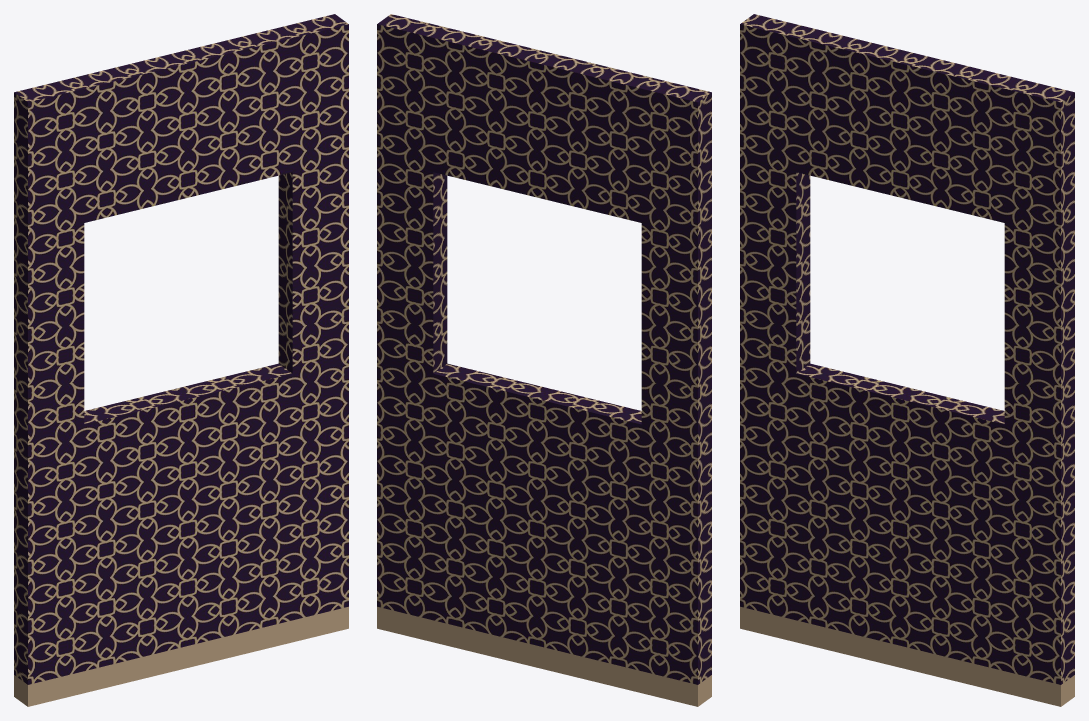
Rendered from ARC0210034.fbx.
3 renders of one model, left to right at view 1: azimuth 30°, elevation 25°; view 2: azimuth 150°, elevation 25°; view 3: azimuth 330°, elevation 25°, orthographic.
Parts seen in each view (by area): view 1: smARC0210034; view 2: smARC0210034; view 3: smARC0210034.
Boxes of the visible parts, <box> form: smARC0210034: <box>14,14,348,706</box>; smARC0210034: <box>377,14,711,706</box>; smARC0210034: <box>740,14,1074,706</box>.
Size of the model in its own units: 182 by 328 by 13.67.
Materials: 1 (1 with a texture image).
